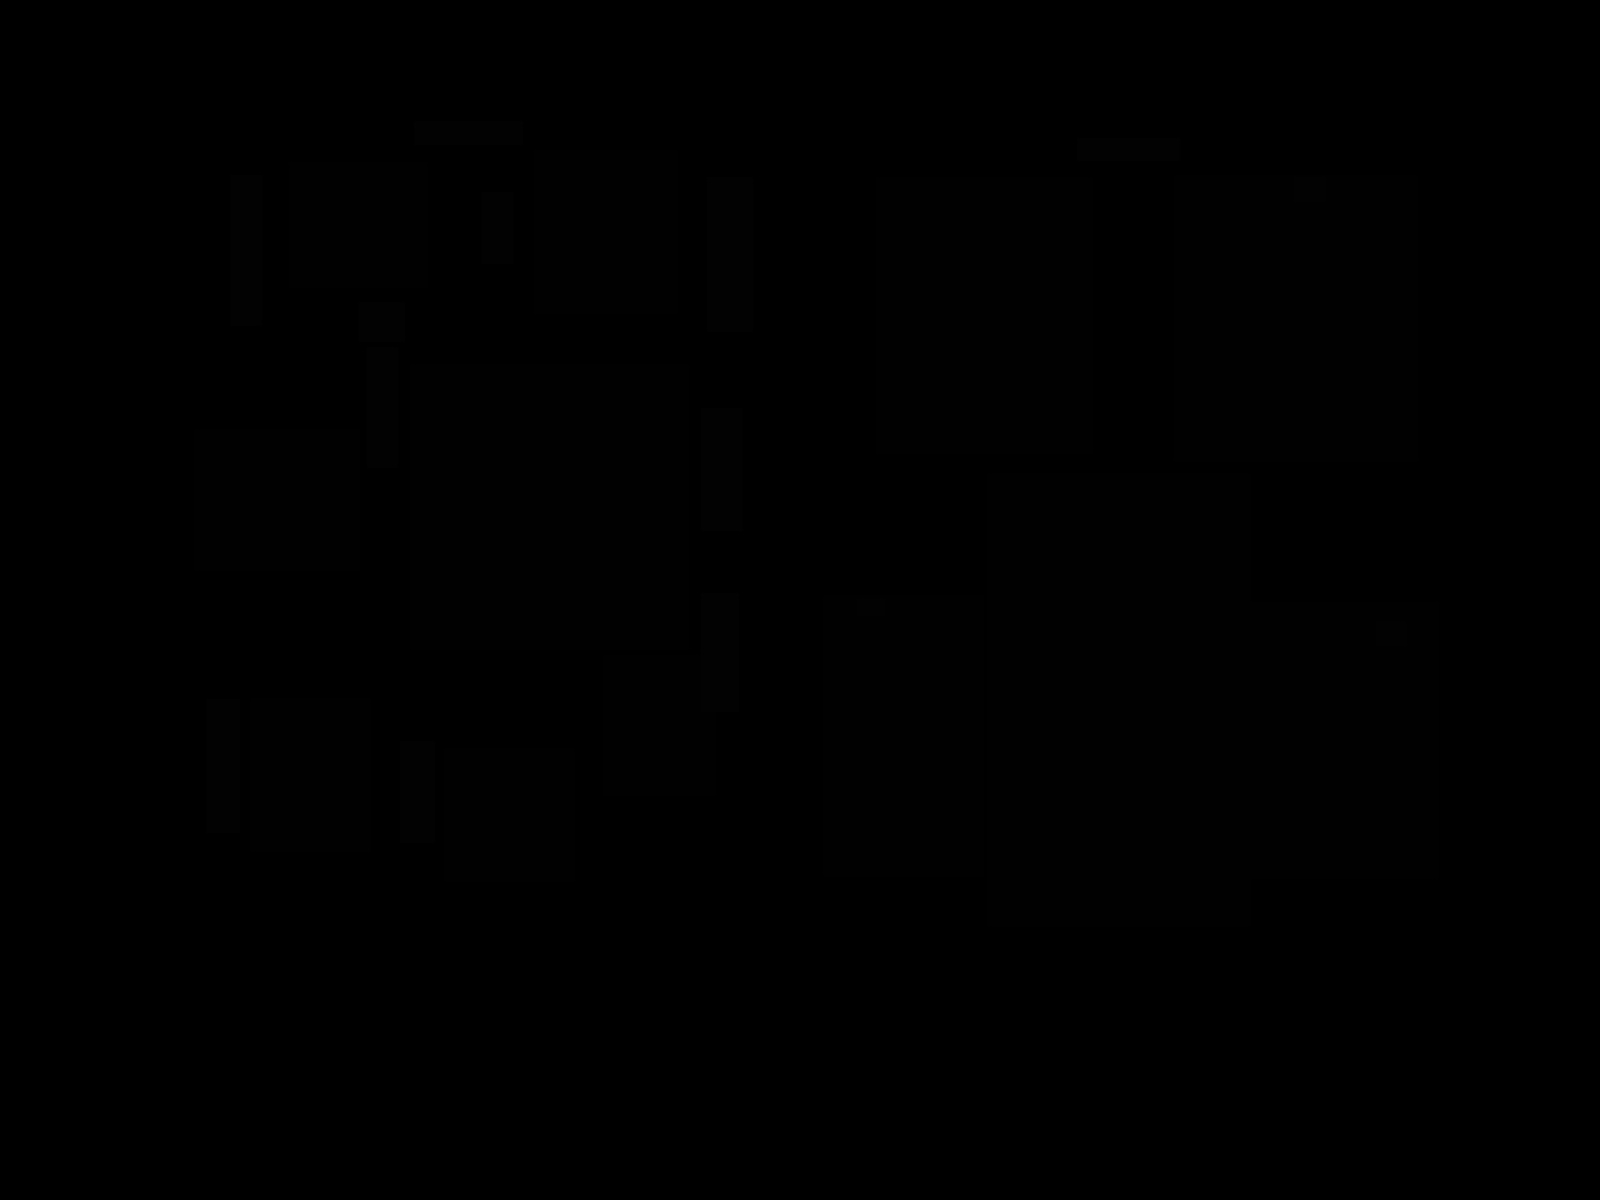1_overall: (71, 61, 1518, 1008)
3_typography: (707, 176, 753, 332), (700, 408, 743, 531), (231, 175, 262, 326), (700, 592, 740, 712), (207, 700, 239, 833), (367, 347, 398, 468), (401, 741, 435, 843), (414, 121, 523, 145), (1077, 137, 1180, 161), (483, 192, 514, 263), (1294, 176, 1327, 202), (1376, 621, 1407, 645), (857, 597, 884, 616)
4_illustration: (986, 473, 1251, 926), (409, 364, 689, 650), (1174, 175, 1419, 463), (876, 176, 1094, 454), (1251, 603, 1439, 879), (823, 595, 984, 877), (194, 429, 360, 571), (534, 150, 678, 314), (249, 698, 370, 852), (443, 747, 574, 882), (289, 163, 428, 287), (603, 655, 716, 795)
5_stamp: (359, 303, 404, 342)
